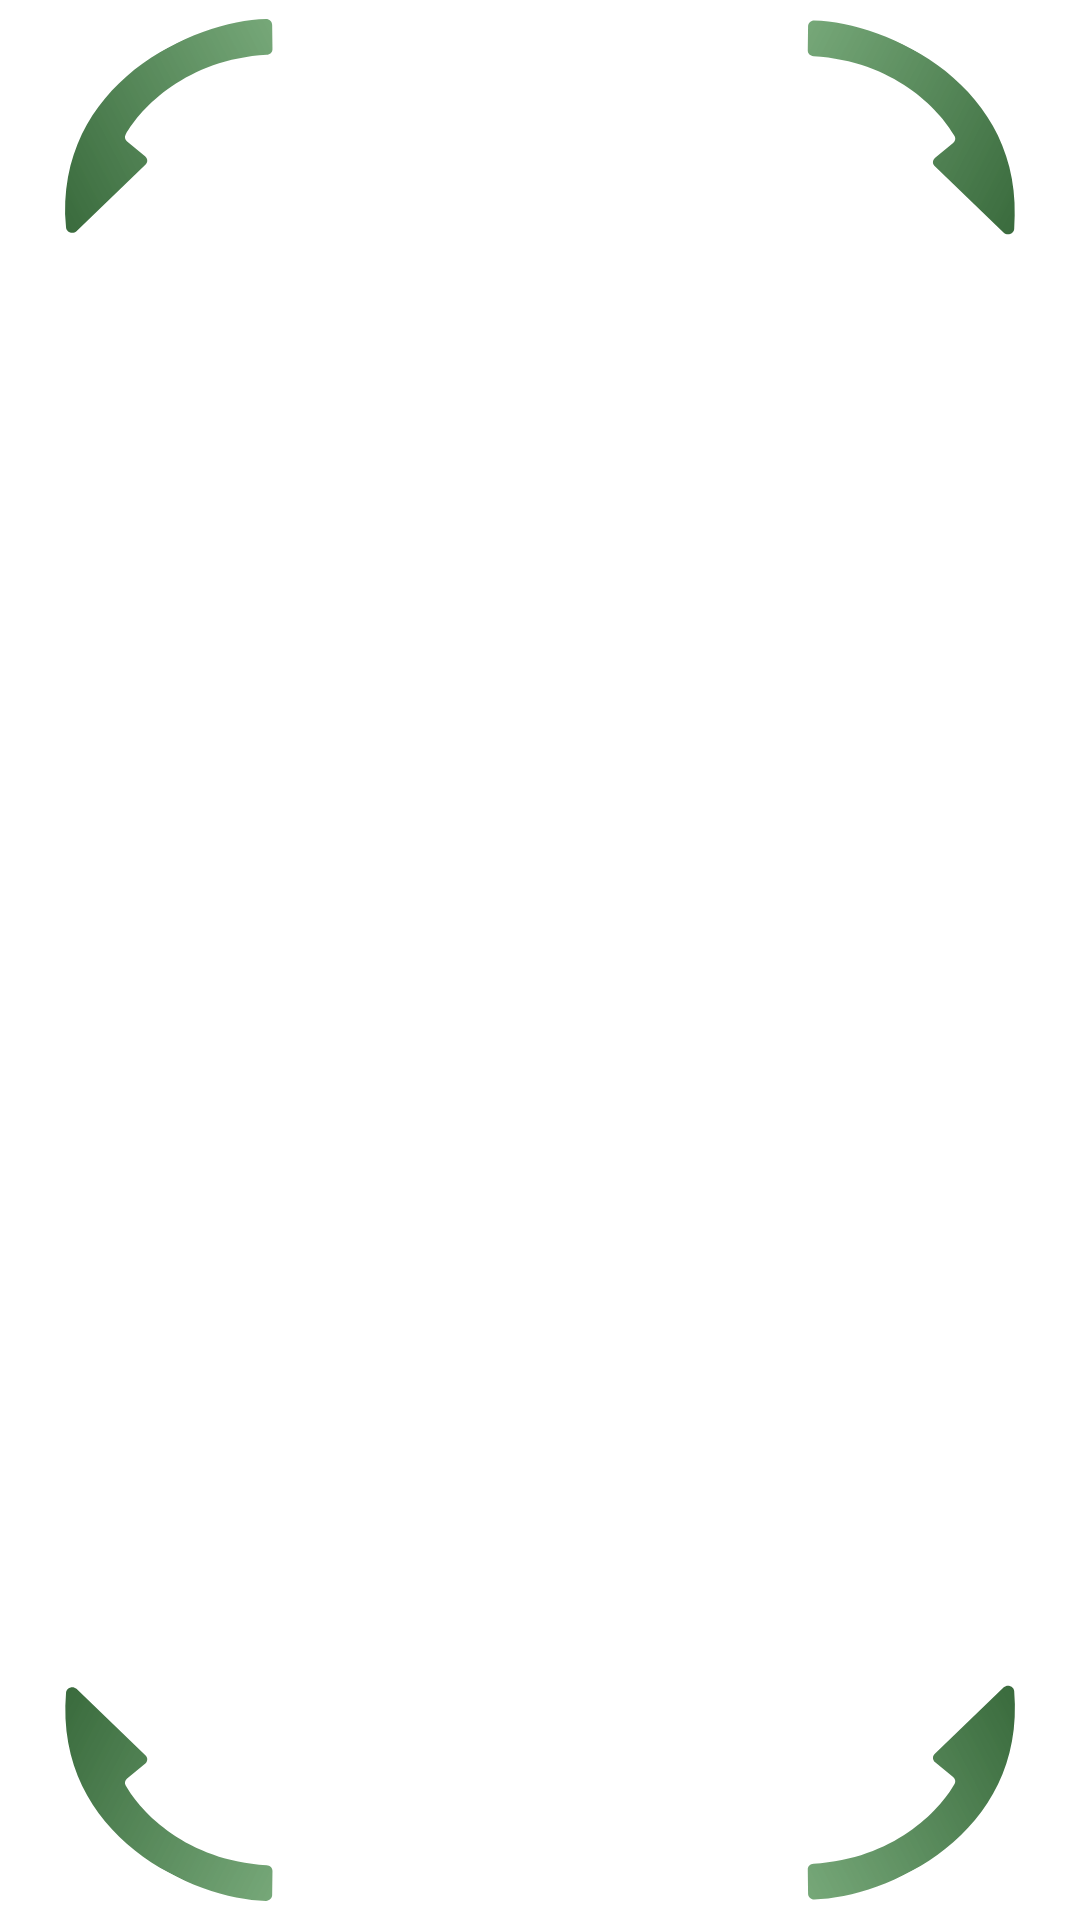

Icons on this 1080 × 1920 Android screen, each with its box as (x1, y1, x2, y2):
arrow bottom left: (65, 1687, 273, 1901)
arrow bottom right: (807, 1685, 1015, 1900)
arrow top left: (65, 19, 273, 233)
arrow top right: (807, 20, 1015, 235)
